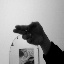h: (12, 20, 45, 46)
